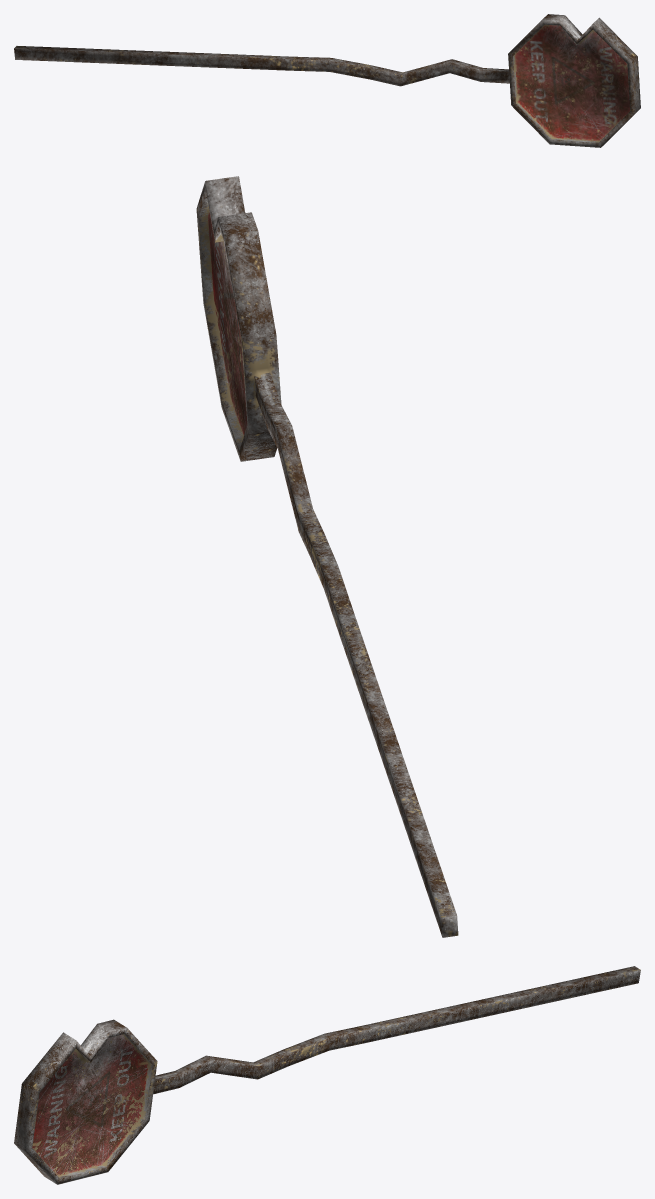
File: Anim_idle_senyal_objetos.0055.obj
3 views of the same model, one above another, from view 1: azimuth 30°, elevation 25°; view 2: azimuth 150°, elevation 25°; view 3: azimuth 270°, elevation 25° (orthographic). The views are drawn at different scales.
Bounding box in the file's own units: 8.22 × 2.6 × 9.74.
